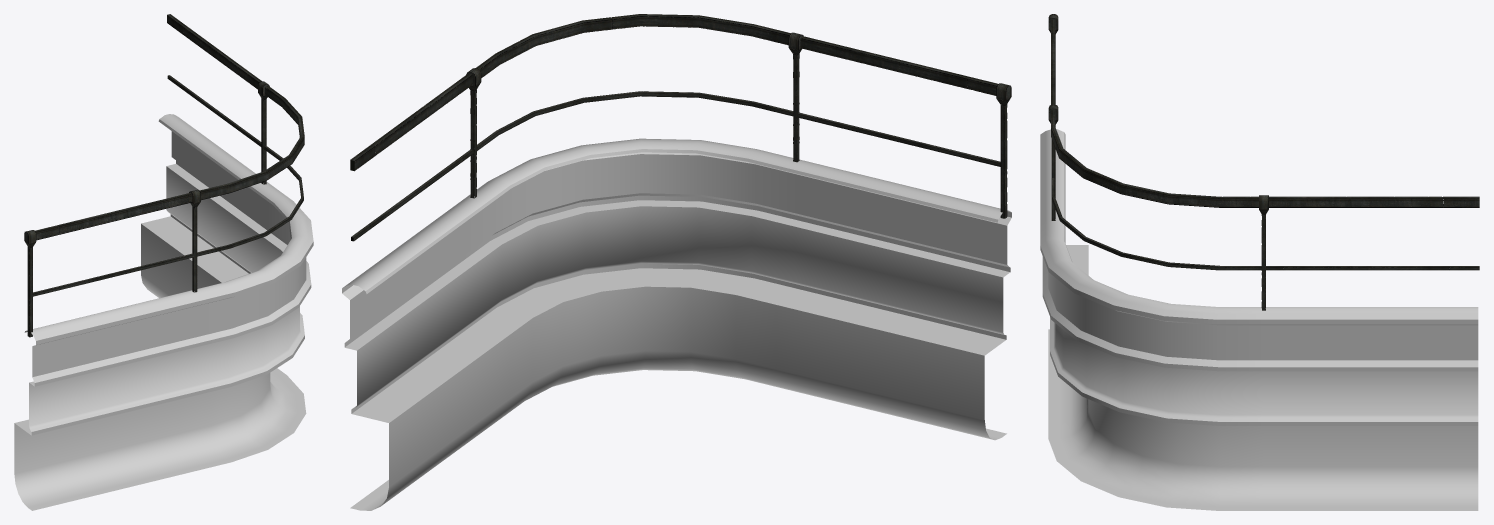
Rendered from engineroom_floor_lip_outer.dae.
The picture shows the model from 3 angles, left to right: view 1: azimuth 30°, elevation 25°; view 2: azimuth 150°, elevation 25°; view 3: azimuth 270°, elevation 25°; orthographic projection. The views are drawn at different scales.
Parts seen in each view (by area): view 1: engine_floor_lip_outer, engine_floor_lip_outer_rail; view 2: engine_floor_lip_outer, engine_floor_lip_outer_rail; view 3: engine_floor_lip_outer, engine_floor_lip_outer_rail.
Boxes of the visible parts, x1,y1,x2,y2 form: engine_floor_lip_outer: [14, 114, 313, 510]; engine_floor_lip_outer_rail: [24, 14, 304, 337]; engine_floor_lip_outer: [342, 138, 1011, 510]; engine_floor_lip_outer_rail: [350, 14, 1011, 241]; engine_floor_lip_outer: [1040, 129, 1478, 510]; engine_floor_lip_outer_rail: [1048, 14, 1479, 310].
Size of the model in its own units: 412 by 322 by 409.
